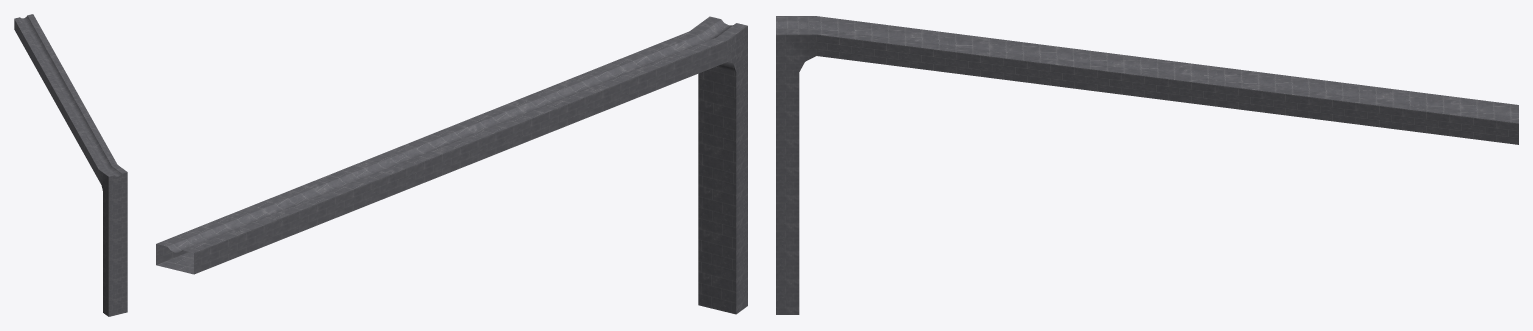
The model's file is Aquaduct_1_002.fbx.
3 views of the same model, side by side, from view 1: azimuth 30°, elevation 25°; view 2: azimuth 150°, elevation 25°; view 3: azimuth 270°, elevation 25° (orthographic). The views are drawn at different scales.
Parts seen in each view (by area): view 1: Aquaduct_1_main; view 2: Aquaduct_1_main; view 3: Aquaduct_1_main.
Part boxes in pixels (box(x1,y1,x2,y2)): Aquaduct_1_main: box(14, 14, 127, 316); Aquaduct_1_main: box(156, 16, 747, 314); Aquaduct_1_main: box(776, 16, 1518, 314).
Bounding box in the file's own units: 1094 × 1330 × 3195.
